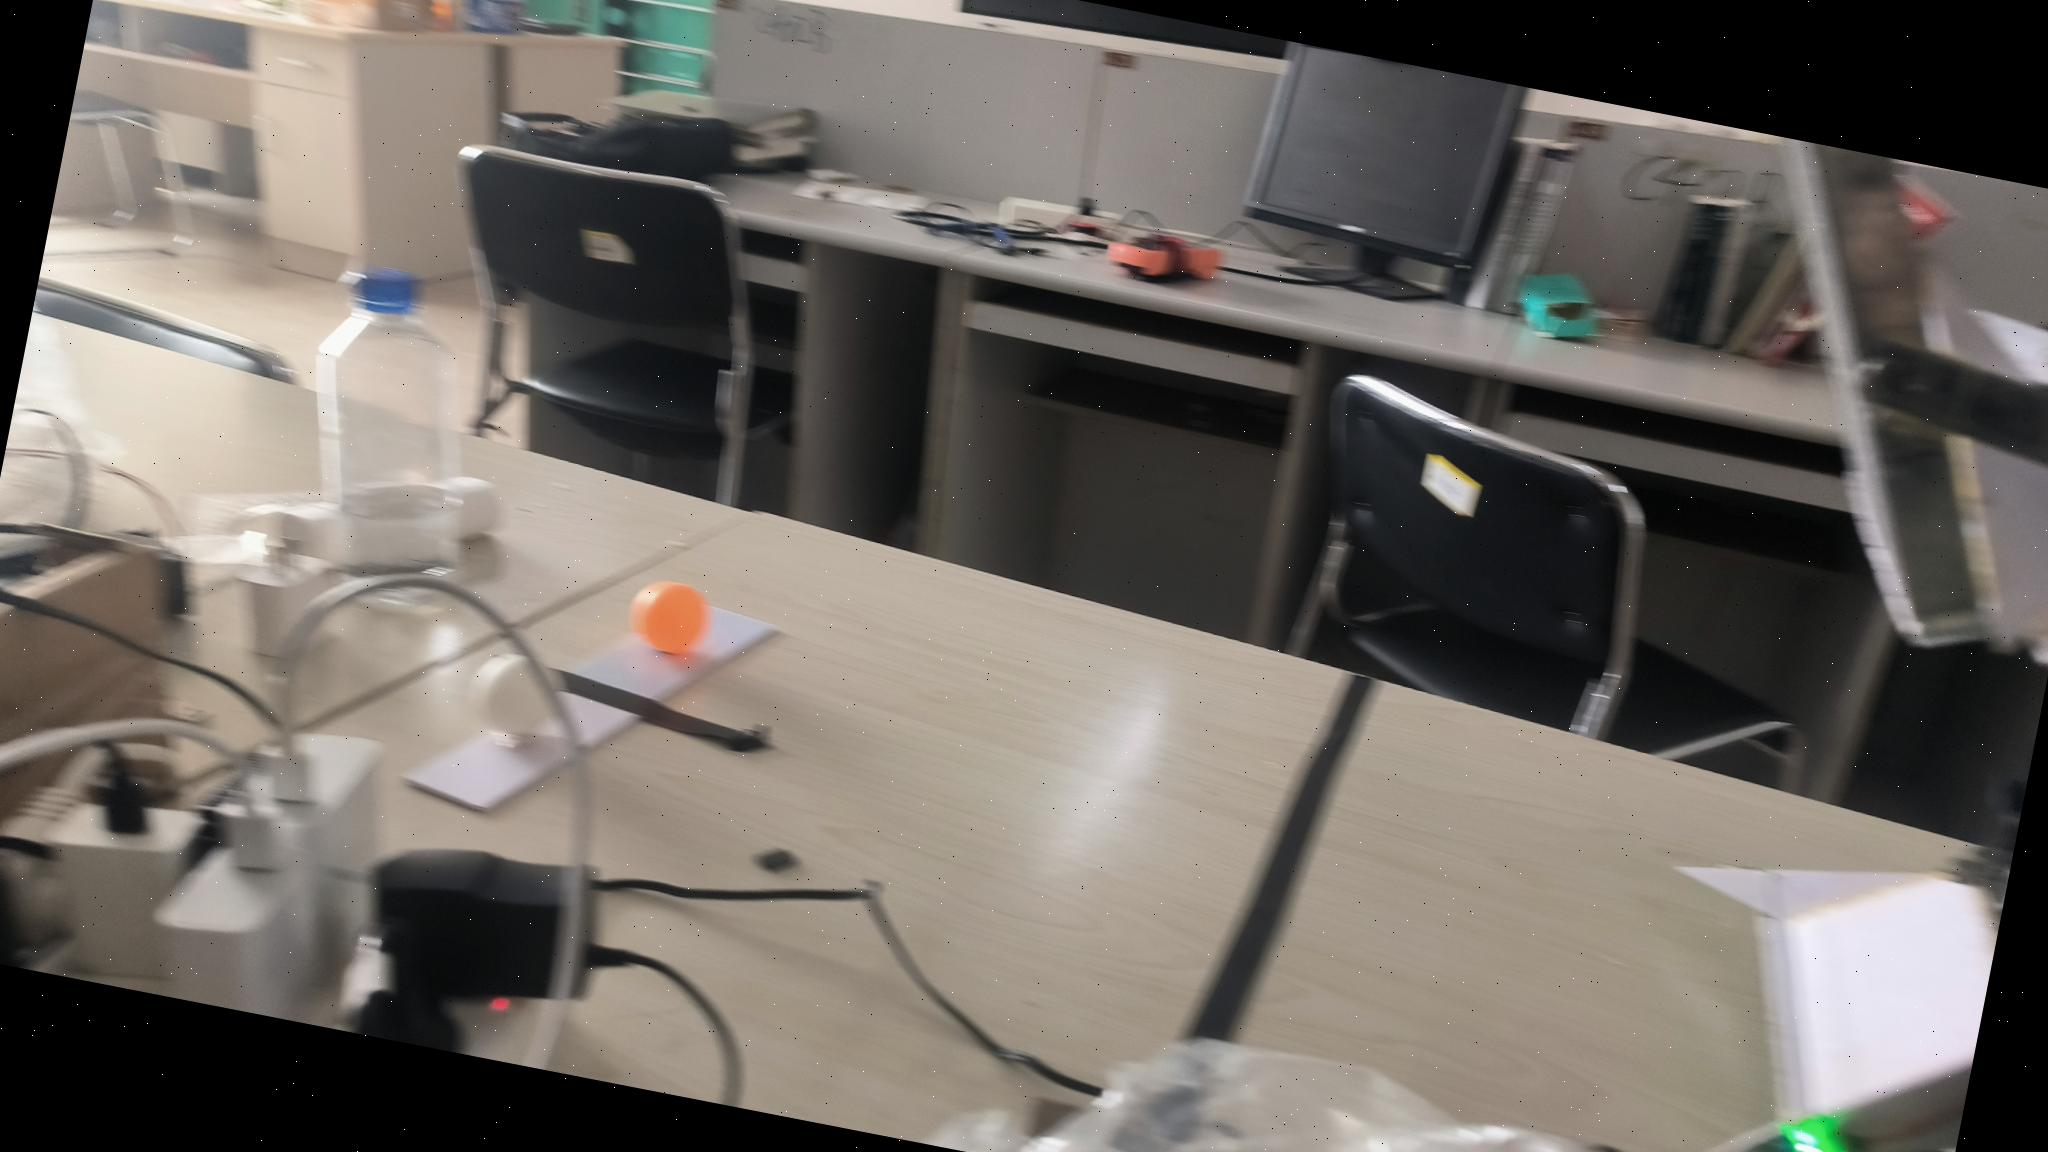ball: (464, 648, 563, 745), (623, 572, 717, 660)
